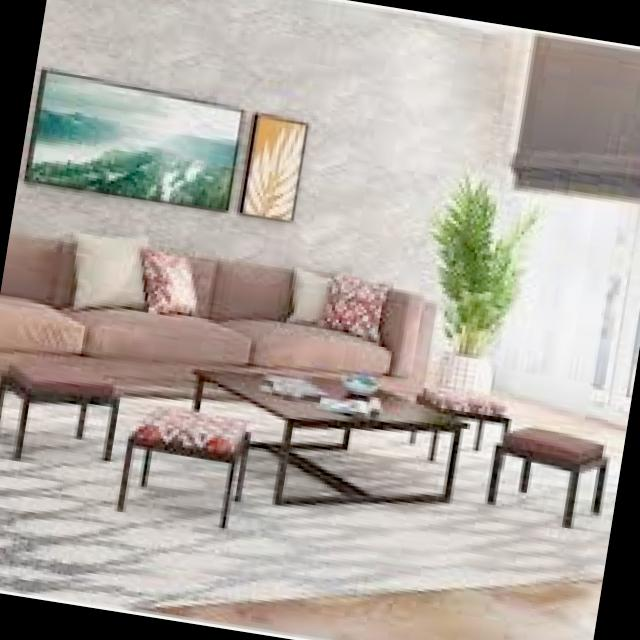obstacle: (91, 374, 281, 552), (0, 321, 139, 488)
